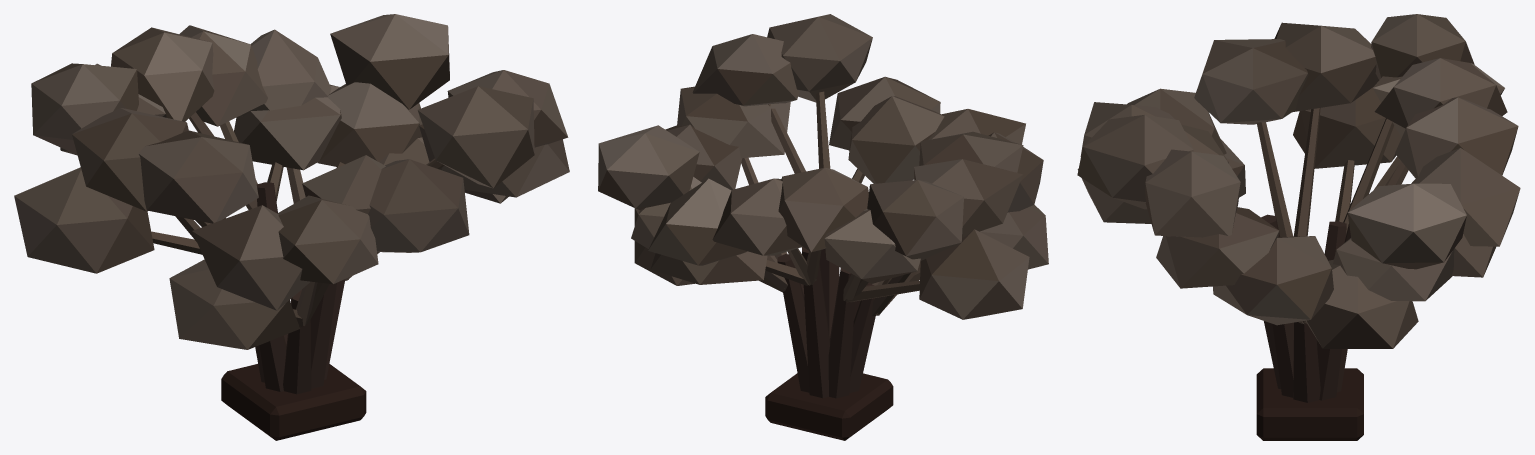
File: AshShrub.glb
The picture shows the model from 3 angles, left to right: view 1: azimuth 30°, elevation 25°; view 2: azimuth 150°, elevation 25°; view 3: azimuth 270°, elevation 25°; orthographic projection. The views are drawn at different scales.
Parts seen in each view (by area): view 1: Body; view 2: Body; view 3: Body.
Part boxes in pixels (x1,y1,x2,y2): Body: (14, 14, 569, 440); Body: (598, 14, 1048, 440); Body: (1077, 14, 1520, 440).
Bounding box in the file's own units: 3.15 × 2.38 × 2.69.
